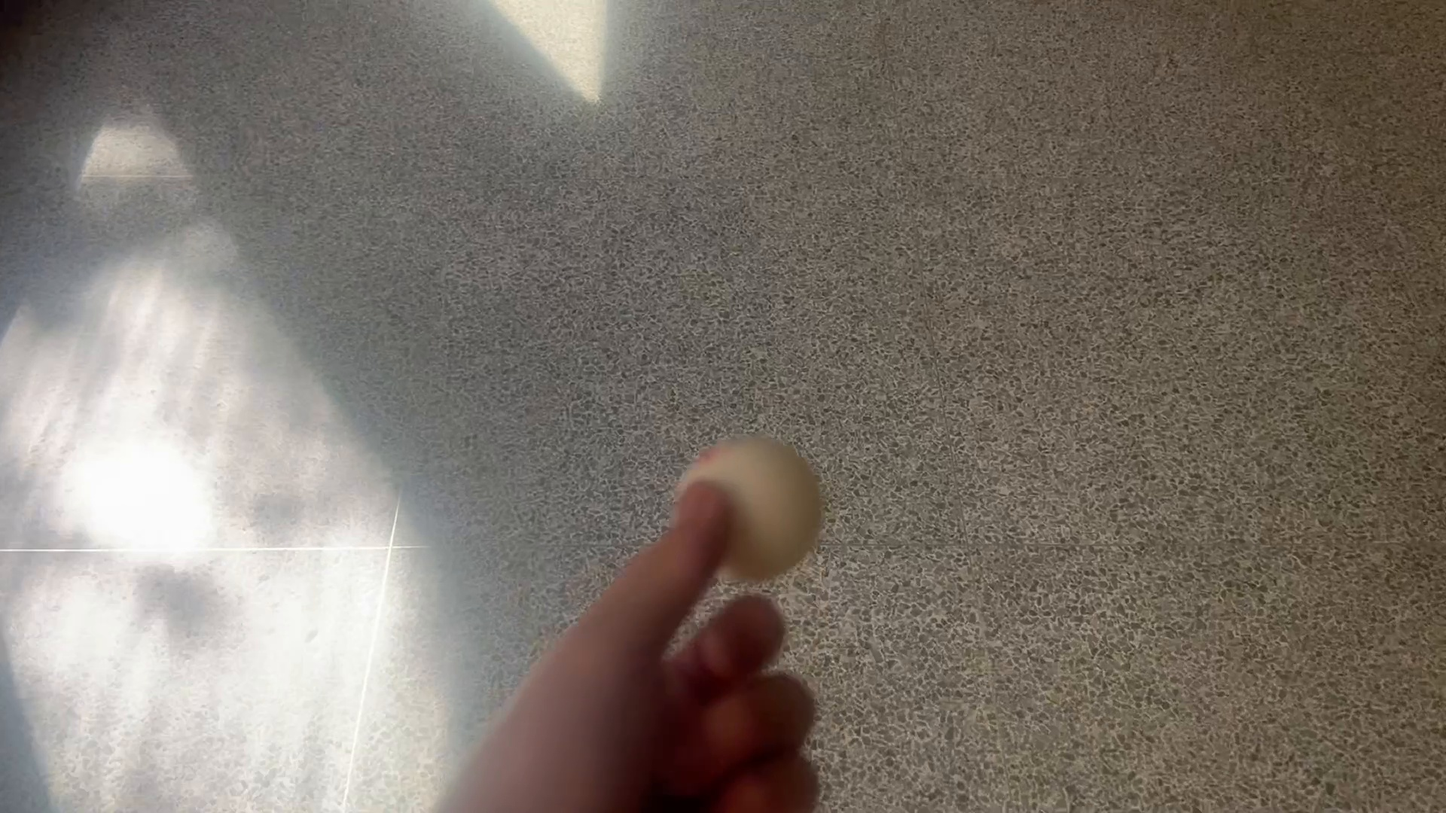Ball: (673, 434, 821, 591)
